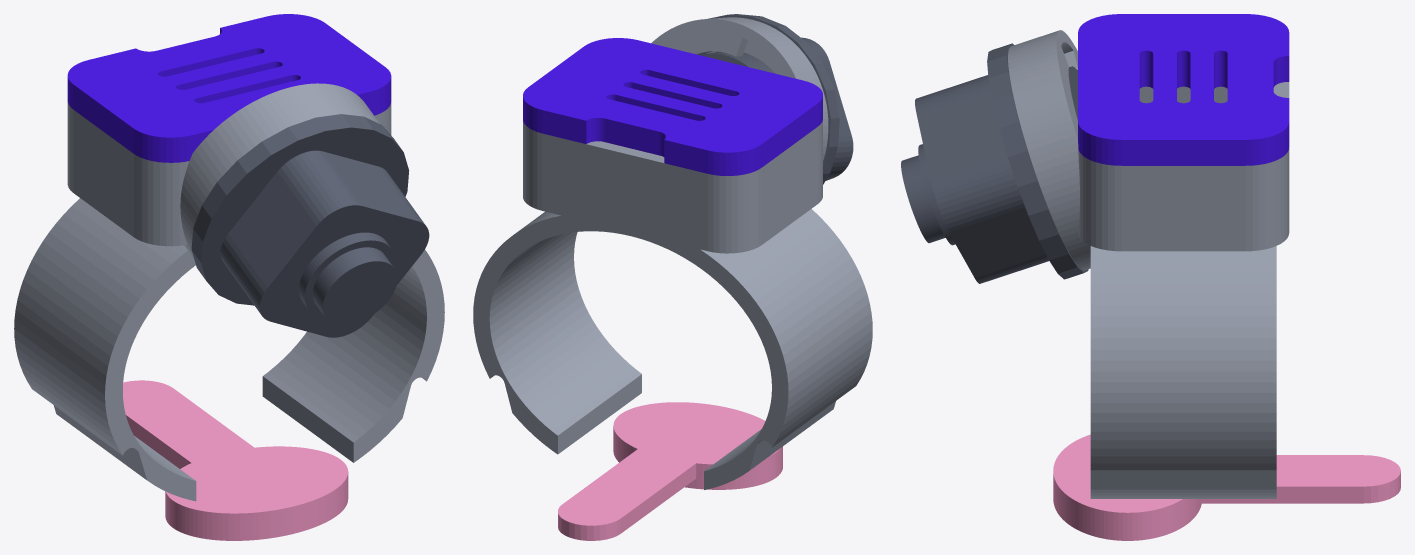
Rendered from band.glb.
The picture shows the model from 3 angles, left to right: view 1: azimuth 30°, elevation 25°; view 2: azimuth 150°, elevation 25°; view 3: azimuth 270°, elevation 25°; orthographic projection. The views are drawn at different scales.
Visible parts, largest first — view 1: band-cuff, band-cam, band-cap, band-pad; view 2: band-cuff, band-cap, band-pad, band-cam; view 3: band-cuff, band-cap, band-cam, band-pad.
Boxes of the visible parts, x1,y1,x2,y2 form: band-cuff: [14, 83, 444, 501]; band-cam: [191, 114, 429, 337]; band-cap: [67, 14, 391, 162]; band-pad: [123, 380, 348, 540]; band-cuff: [473, 17, 872, 489]; band-cap: [523, 38, 822, 175]; band-pad: [558, 402, 782, 540]; band-cam: [697, 14, 853, 184]; band-cuff: [1008, 30, 1289, 498]; band-cap: [1078, 14, 1289, 165]; band-cam: [901, 43, 1088, 283]; band-pad: [1053, 434, 1400, 540].
Size of the model in its own units: 64.8 by 82.85 by 80.52.
